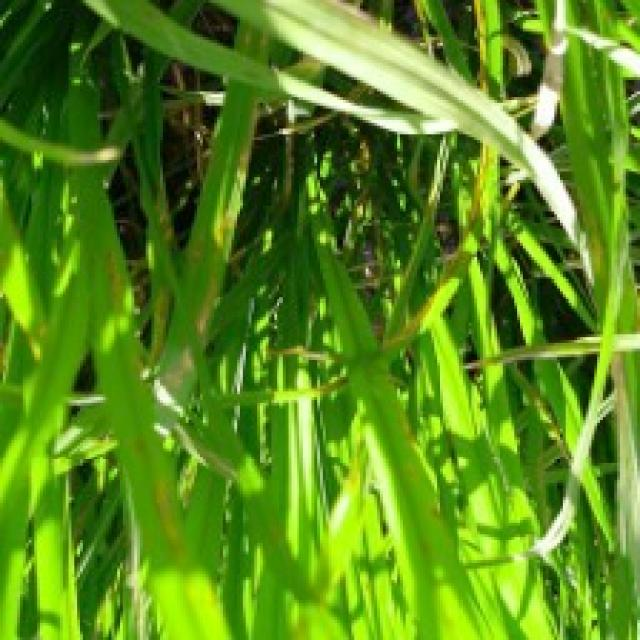Unhealthy: (528, 0, 640, 141), (381, 260, 461, 354), (609, 351, 640, 558), (441, 143, 490, 260), (168, 423, 235, 481), (146, 480, 186, 575), (462, 343, 599, 368), (191, 252, 221, 346), (160, 347, 195, 399), (319, 0, 378, 30), (155, 170, 174, 255), (473, 0, 489, 95), (269, 345, 343, 364), (106, 250, 127, 314), (212, 207, 236, 262), (396, 399, 421, 451), (151, 293, 168, 368), (67, 146, 122, 166), (234, 134, 250, 191), (130, 432, 151, 468), (347, 441, 361, 494), (310, 377, 349, 395), (290, 610, 311, 640), (248, 88, 259, 142), (266, 521, 283, 550), (203, 587, 218, 611), (0, 335, 6, 390), (430, 501, 441, 524)
